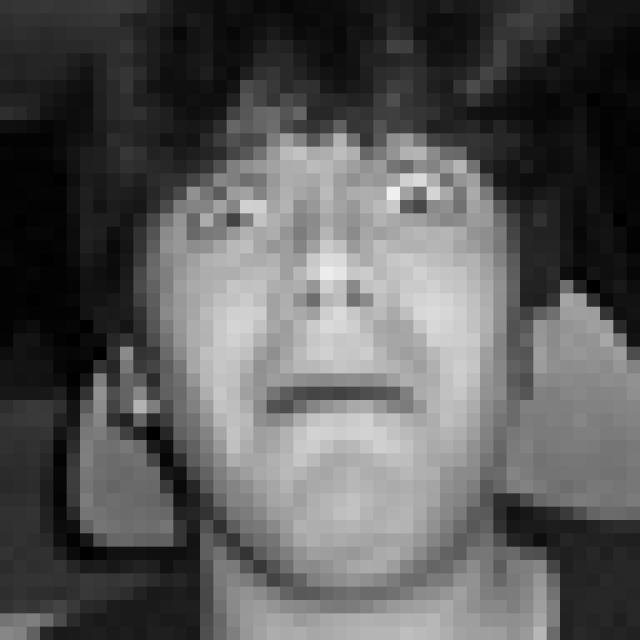fear: (169, 104, 499, 513)
